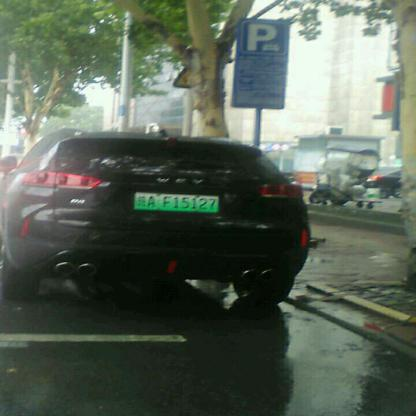lp: (133, 192, 218, 211)
